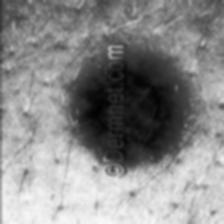Potentially Malignant Skin Tumors: (79, 65, 172, 153)
